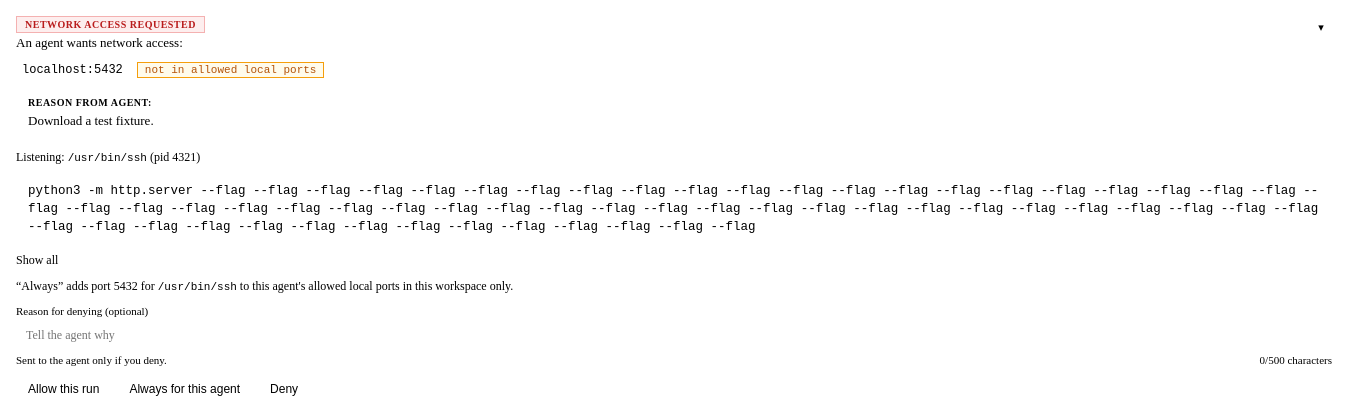
Test case: NetworkAccessCard for a port on this computer › collapses a long command line to three lines until Show all
Click the button "Show all" at (37, 260), box [16,253,58,268]
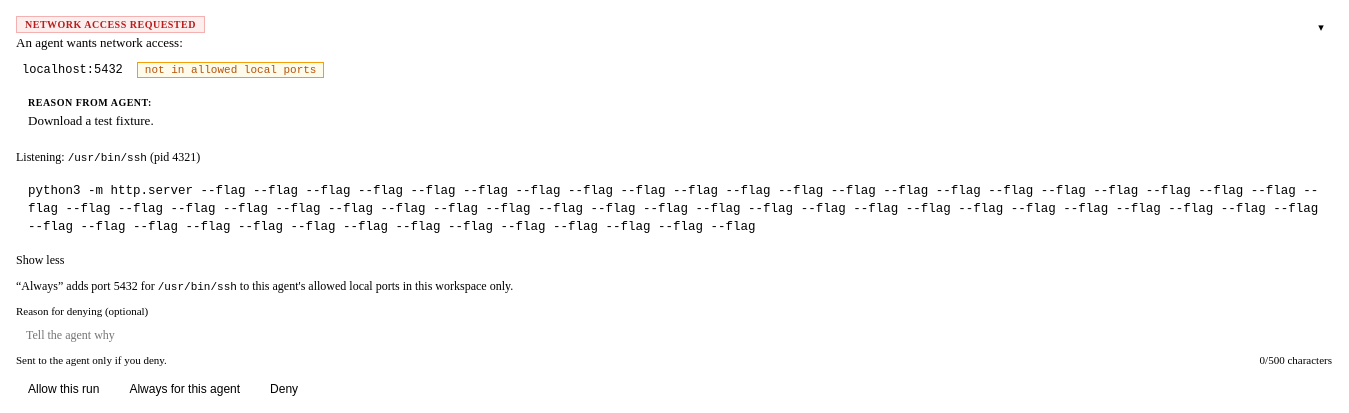
Now the button "Show less" is expanded, box [16,253,64,268]
